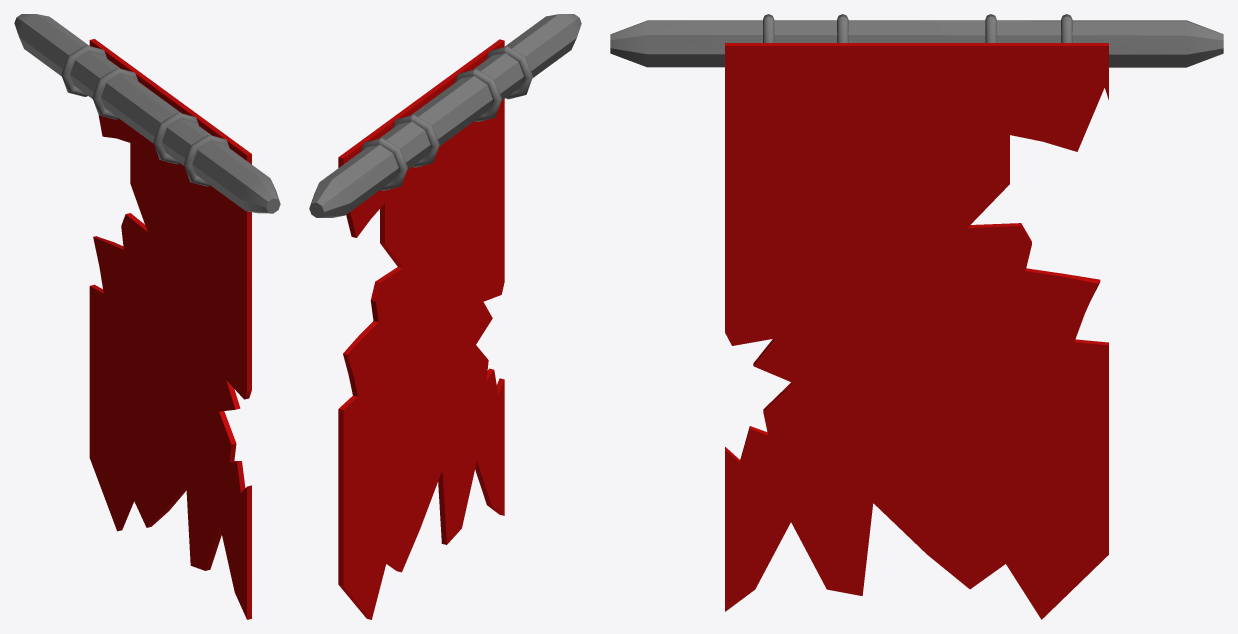
Rendered from Damaged_Banner_Floating.fbx.
3 views of the same model, side by side, from view 1: azimuth 30°, elevation 25°; view 2: azimuth 150°, elevation 25°; view 3: azimuth 270°, elevation 25° (orthographic). The views are drawn at different scales.
Visible parts, largest first — view 1: polySurface6, pCylinder1, polySurface3; view 2: polySurface6, pCylinder1, polySurface3; view 3: polySurface6, pCylinder1, polySurface3.
Boxes of the visible parts, x1,y1,x2,y2 form: polySurface6: (89, 39, 251, 619); pCylinder1: (14, 14, 280, 213); polySurface3: (61, 45, 229, 186); polySurface6: (338, 39, 504, 619); pCylinder1: (309, 14, 581, 217); polySurface3: (361, 46, 532, 190); polySurface6: (725, 43, 1108, 619); pCylinder1: (610, 20, 1223, 67); polySurface3: (763, 14, 1072, 42).
Size of the model in its own units: 1.9 by 17.47 by 16.5.
